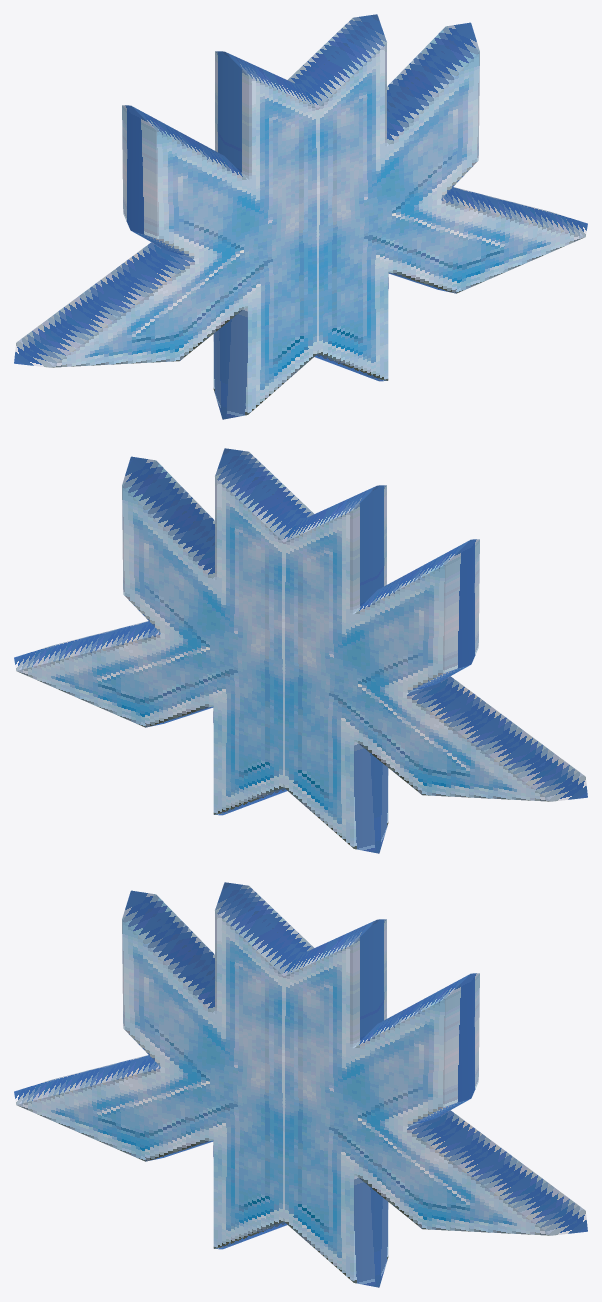
Rendered from ps2_save-icons_whiteout.glb.
3 views of the same model, one above another, from view 1: azimuth 30°, elevation 25°; view 2: azimuth 150°, elevation 25°; view 3: azimuth 330°, elevation 25° (orthographic).
Visible parts, largest first — view 1: espn.icn; view 2: espn.icn; view 3: espn.icn.
Boxes of the visible parts, x1,y1,x2,y2 form: espn.icn: (14, 14, 587, 419); espn.icn: (14, 448, 587, 853); espn.icn: (14, 882, 587, 1287).
Bounding box in the file's own units: 4.73 × 2.89 × 0.4883.
Materials: 1 (1 with a texture image).
